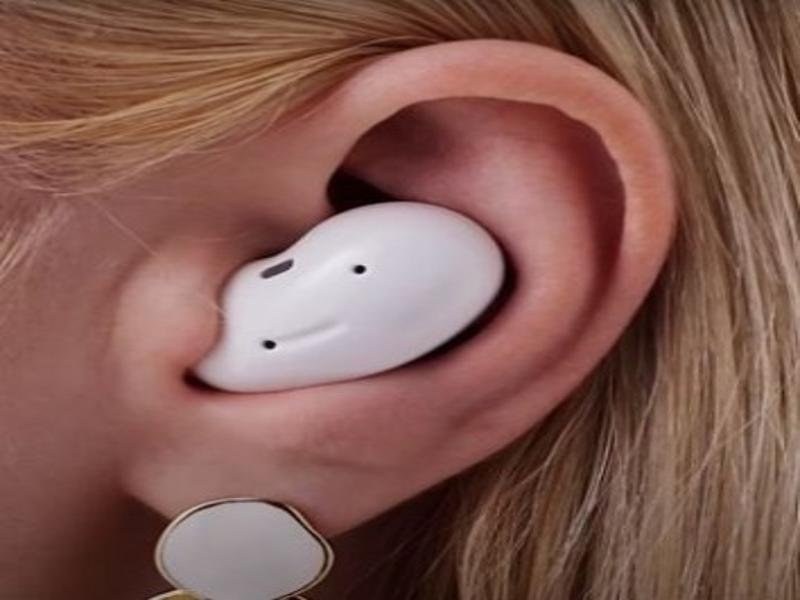headphone: (186, 195, 507, 405)
